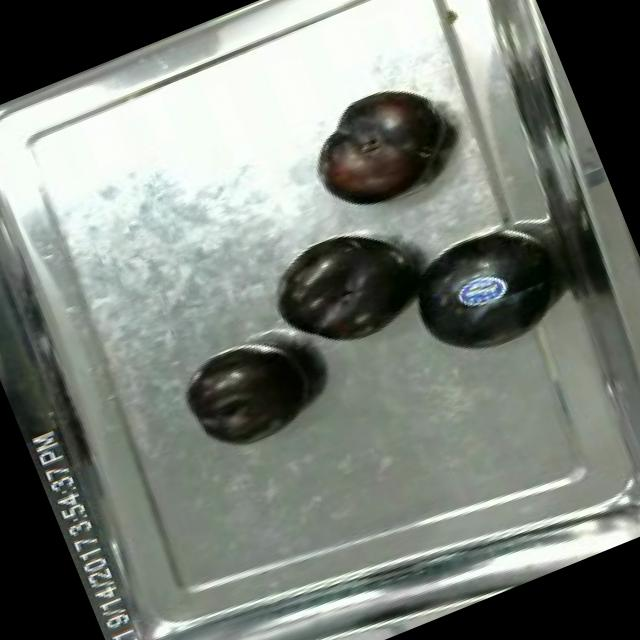Fruit: (380, 200, 584, 386), (291, 69, 467, 232), (259, 212, 437, 372), (168, 327, 330, 468)
